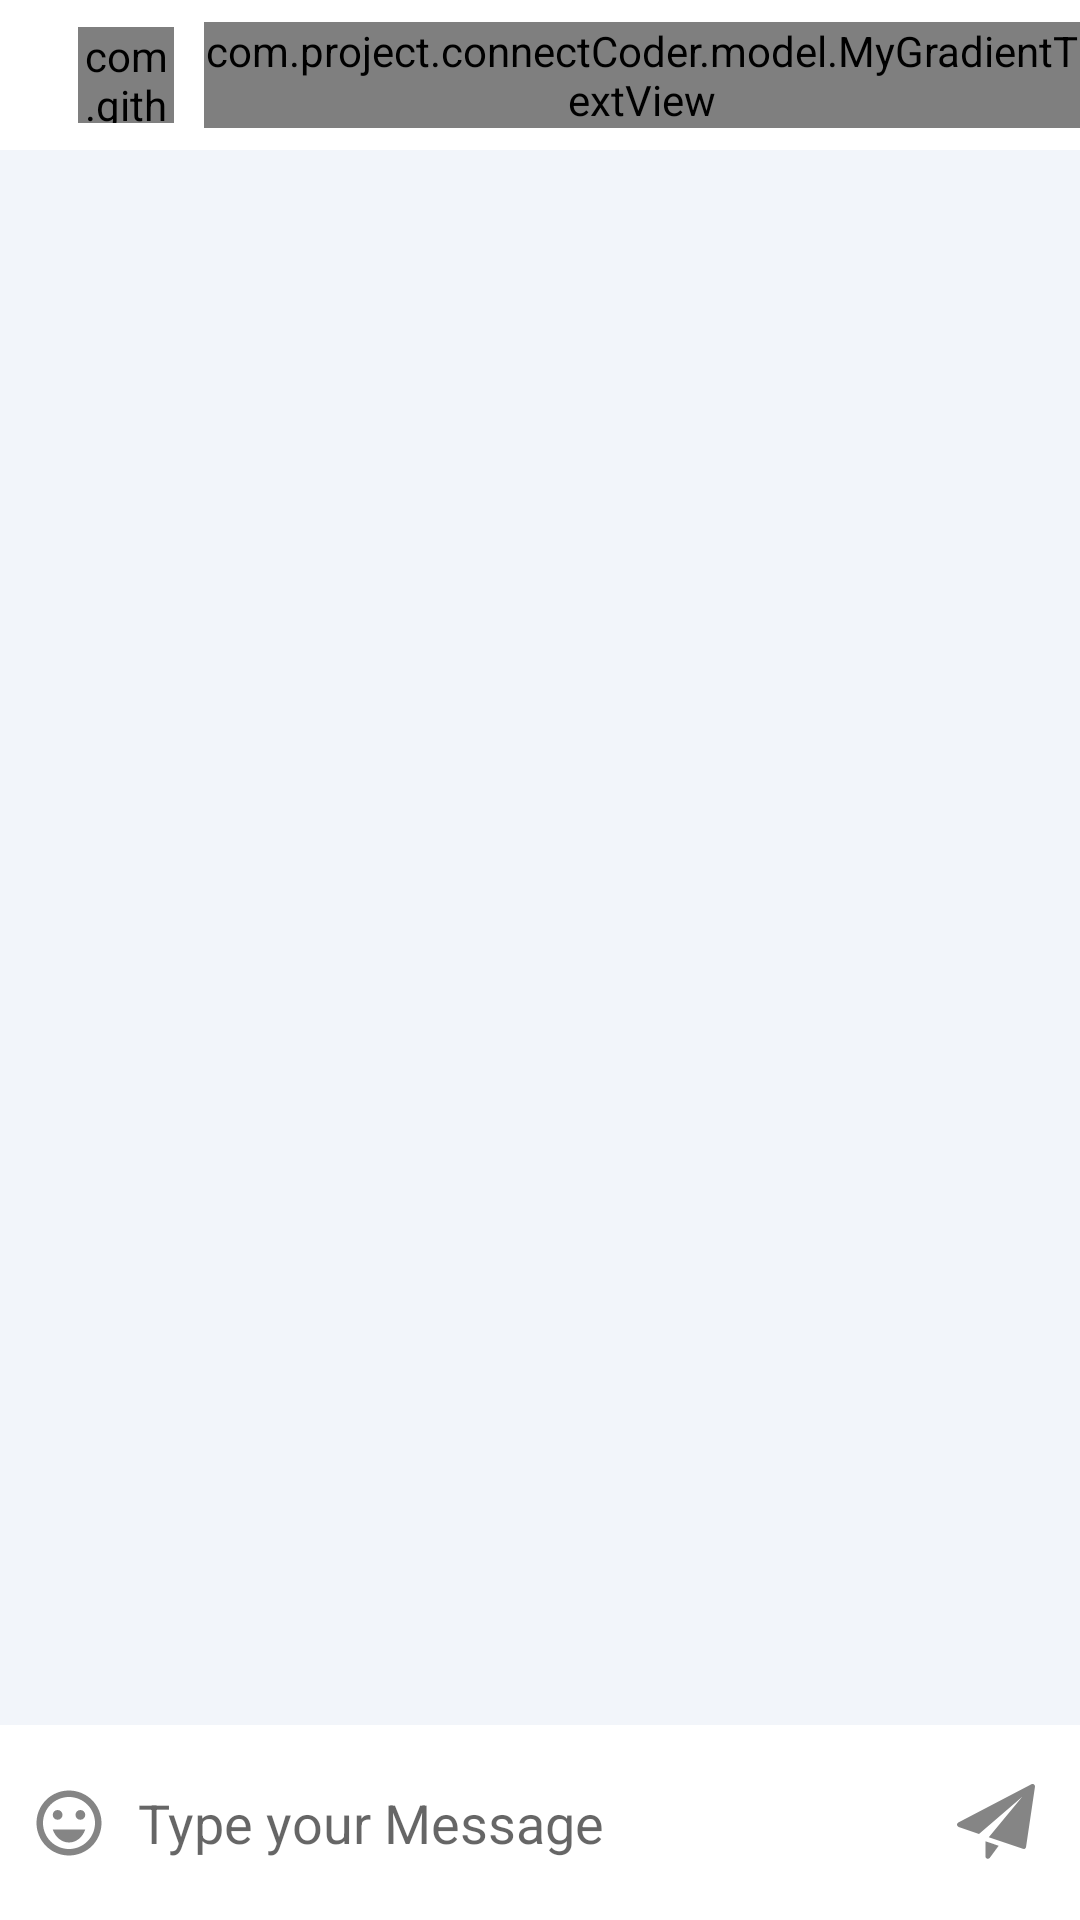

Icon click points for this 1080 x 1920 phone screenshot, format [x,y]:
emoji: [69,1823]
send message: [996,1821]
